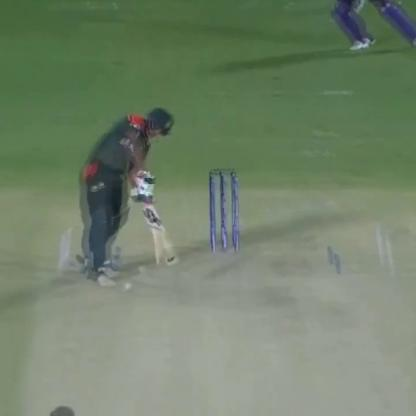ball: (120, 278, 133, 298)
bat: (128, 177, 181, 274)
pitch: (15, 223, 416, 416)
